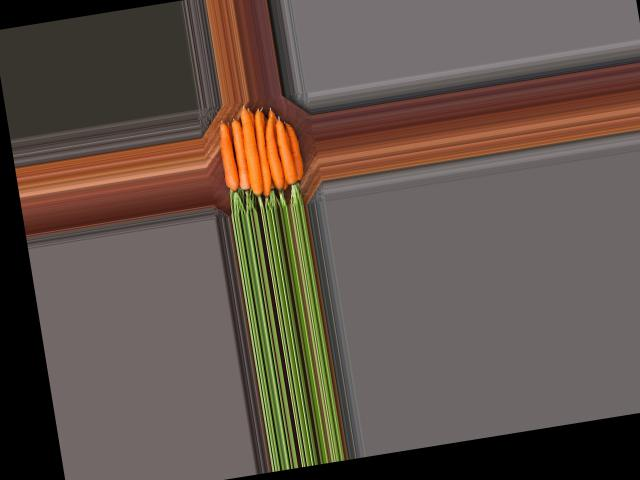carrot: (281, 112, 310, 183)
